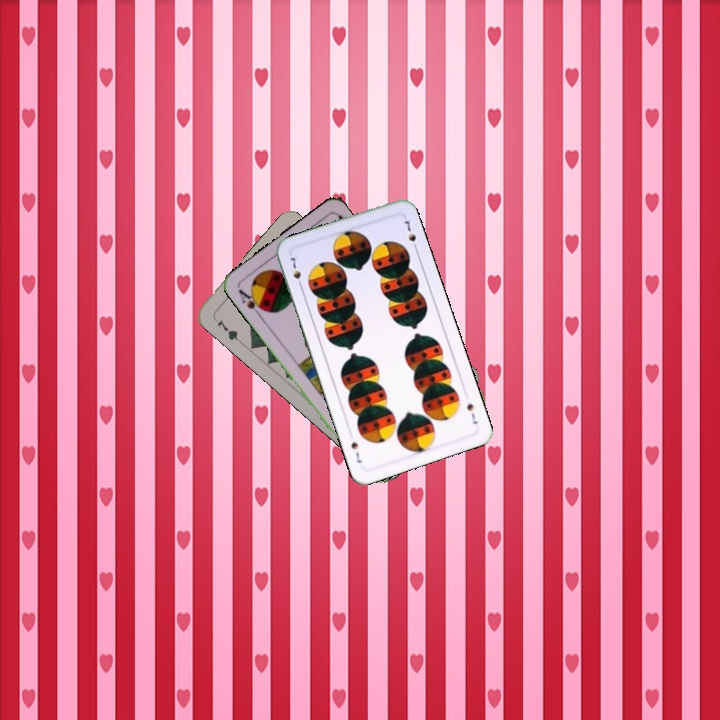G7: (210, 314, 243, 344)
S7: (287, 252, 305, 291), (463, 399, 480, 427)
SA: (234, 285, 268, 319)
